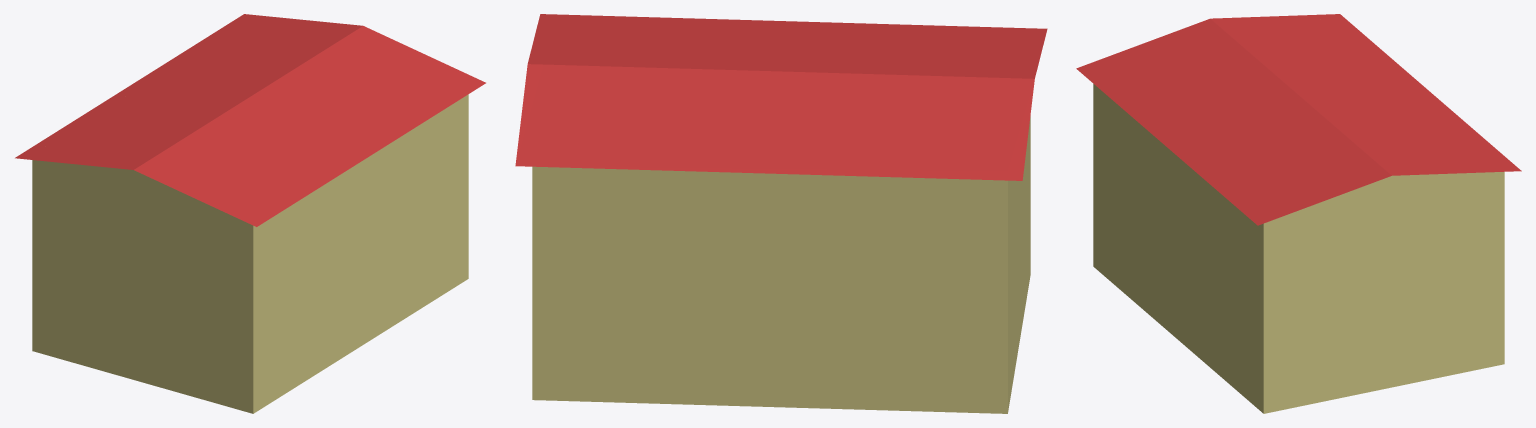
3 views of the same model, side by side, from view 1: azimuth 30°, elevation 25°; view 2: azimuth 150°, elevation 25°; view 3: azimuth 270°, elevation 25° (orthographic). The views are drawn at different scales.
Bounding box in the file's own units: 19.34 × 17.21 × 9.28.
